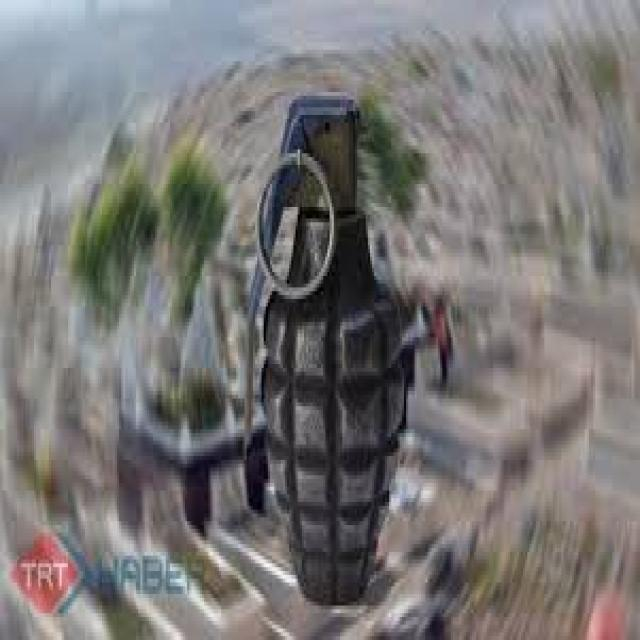grenade: (234, 87, 419, 621)
